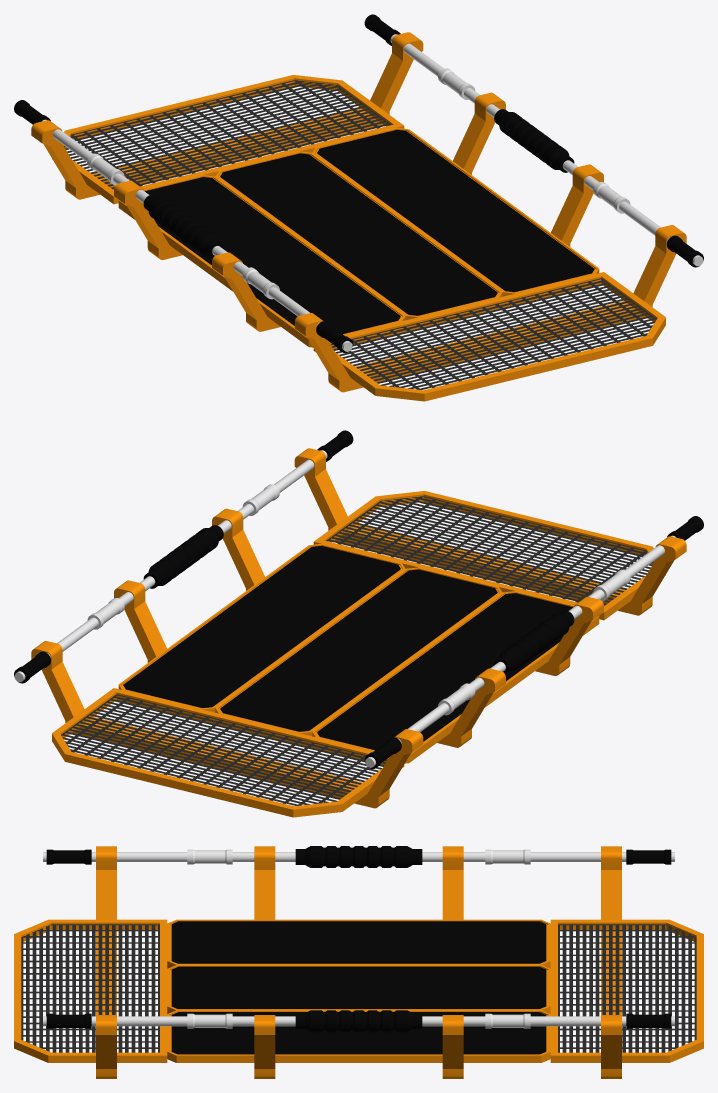
The model's file is straight_scifi_floor.fbx.
3 views of the same model, one above another, from view 1: azimuth 30°, elevation 25°; view 2: azimuth 150°, elevation 25°; view 3: azimuth 270°, elevation 25° (orthographic). The views are drawn at different scales.
Parts seen in each view (by area): view 1: Cube.013, Cube.004, Cube.005, Cube.002, Cube.011, Cube.001, Cube.003, Cylinder.002, Cylinder, Cylinder.001, Cylinder.003; view 2: Cube.013, Cube.004, Cube.005, Cube.002, Cube.011, Cube.001, Cube.003, Cylinder.002, Cylinder, Cylinder.001, Cylinder.003; view 3: Cube.013, Cube.004, Cube.002, Cube.005, Cube.001, Cube.011, Cube.003, Cylinder.002, Cylinder, Cylinder.001, Cylinder.003.
Boxes of the visible parts, box(x1,y1,x2,y2) form: Cube.013: box(64, 80, 656, 389); Cube.004: box(215, 151, 502, 320); Cube.005: box(312, 127, 599, 296); Cube.002: box(118, 175, 405, 347); Cube.011: box(31, 32, 686, 392); Cube.001: box(52, 75, 665, 401); Cube.003: box(114, 92, 603, 331); Cylinder.002: box(143, 109, 574, 257); Cylinder: box(42, 34, 703, 351); Cylinder.001: box(87, 68, 630, 299); Cylinder.003: box(14, 14, 703, 352); Cube.013: box(61, 496, 653, 805); Cube.004: box(215, 567, 502, 736); Cube.005: box(118, 543, 405, 712); Cube.002: box(312, 591, 599, 763); Cube.011: box(31, 448, 686, 808); Cube.001: box(52, 491, 665, 817); Cube.003: box(114, 508, 603, 747); Cylinder.002: box(143, 525, 574, 673); Cylinder: box(14, 450, 675, 767); Cylinder.001: box(87, 484, 630, 715); Cylinder.003: box(14, 430, 703, 768); Cube.013: box(21, 924, 696, 1052); Cube.004: box(167, 965, 550, 1013); Cube.002: box(167, 919, 550, 968); Cube.005: box(167, 1010, 550, 1062); Cube.001: box(14, 919, 703, 1062); Cube.011: box(96, 846, 621, 1078); Cube.003: box(254, 846, 463, 1078); Cylinder.002: box(295, 846, 422, 1032); Cylinder: box(43, 852, 674, 1026); Cylinder.001: box(187, 849, 530, 1028); Cylinder.003: box(46, 849, 671, 1028).
Size of the model in its own units: 917 by 188 by 1500.
